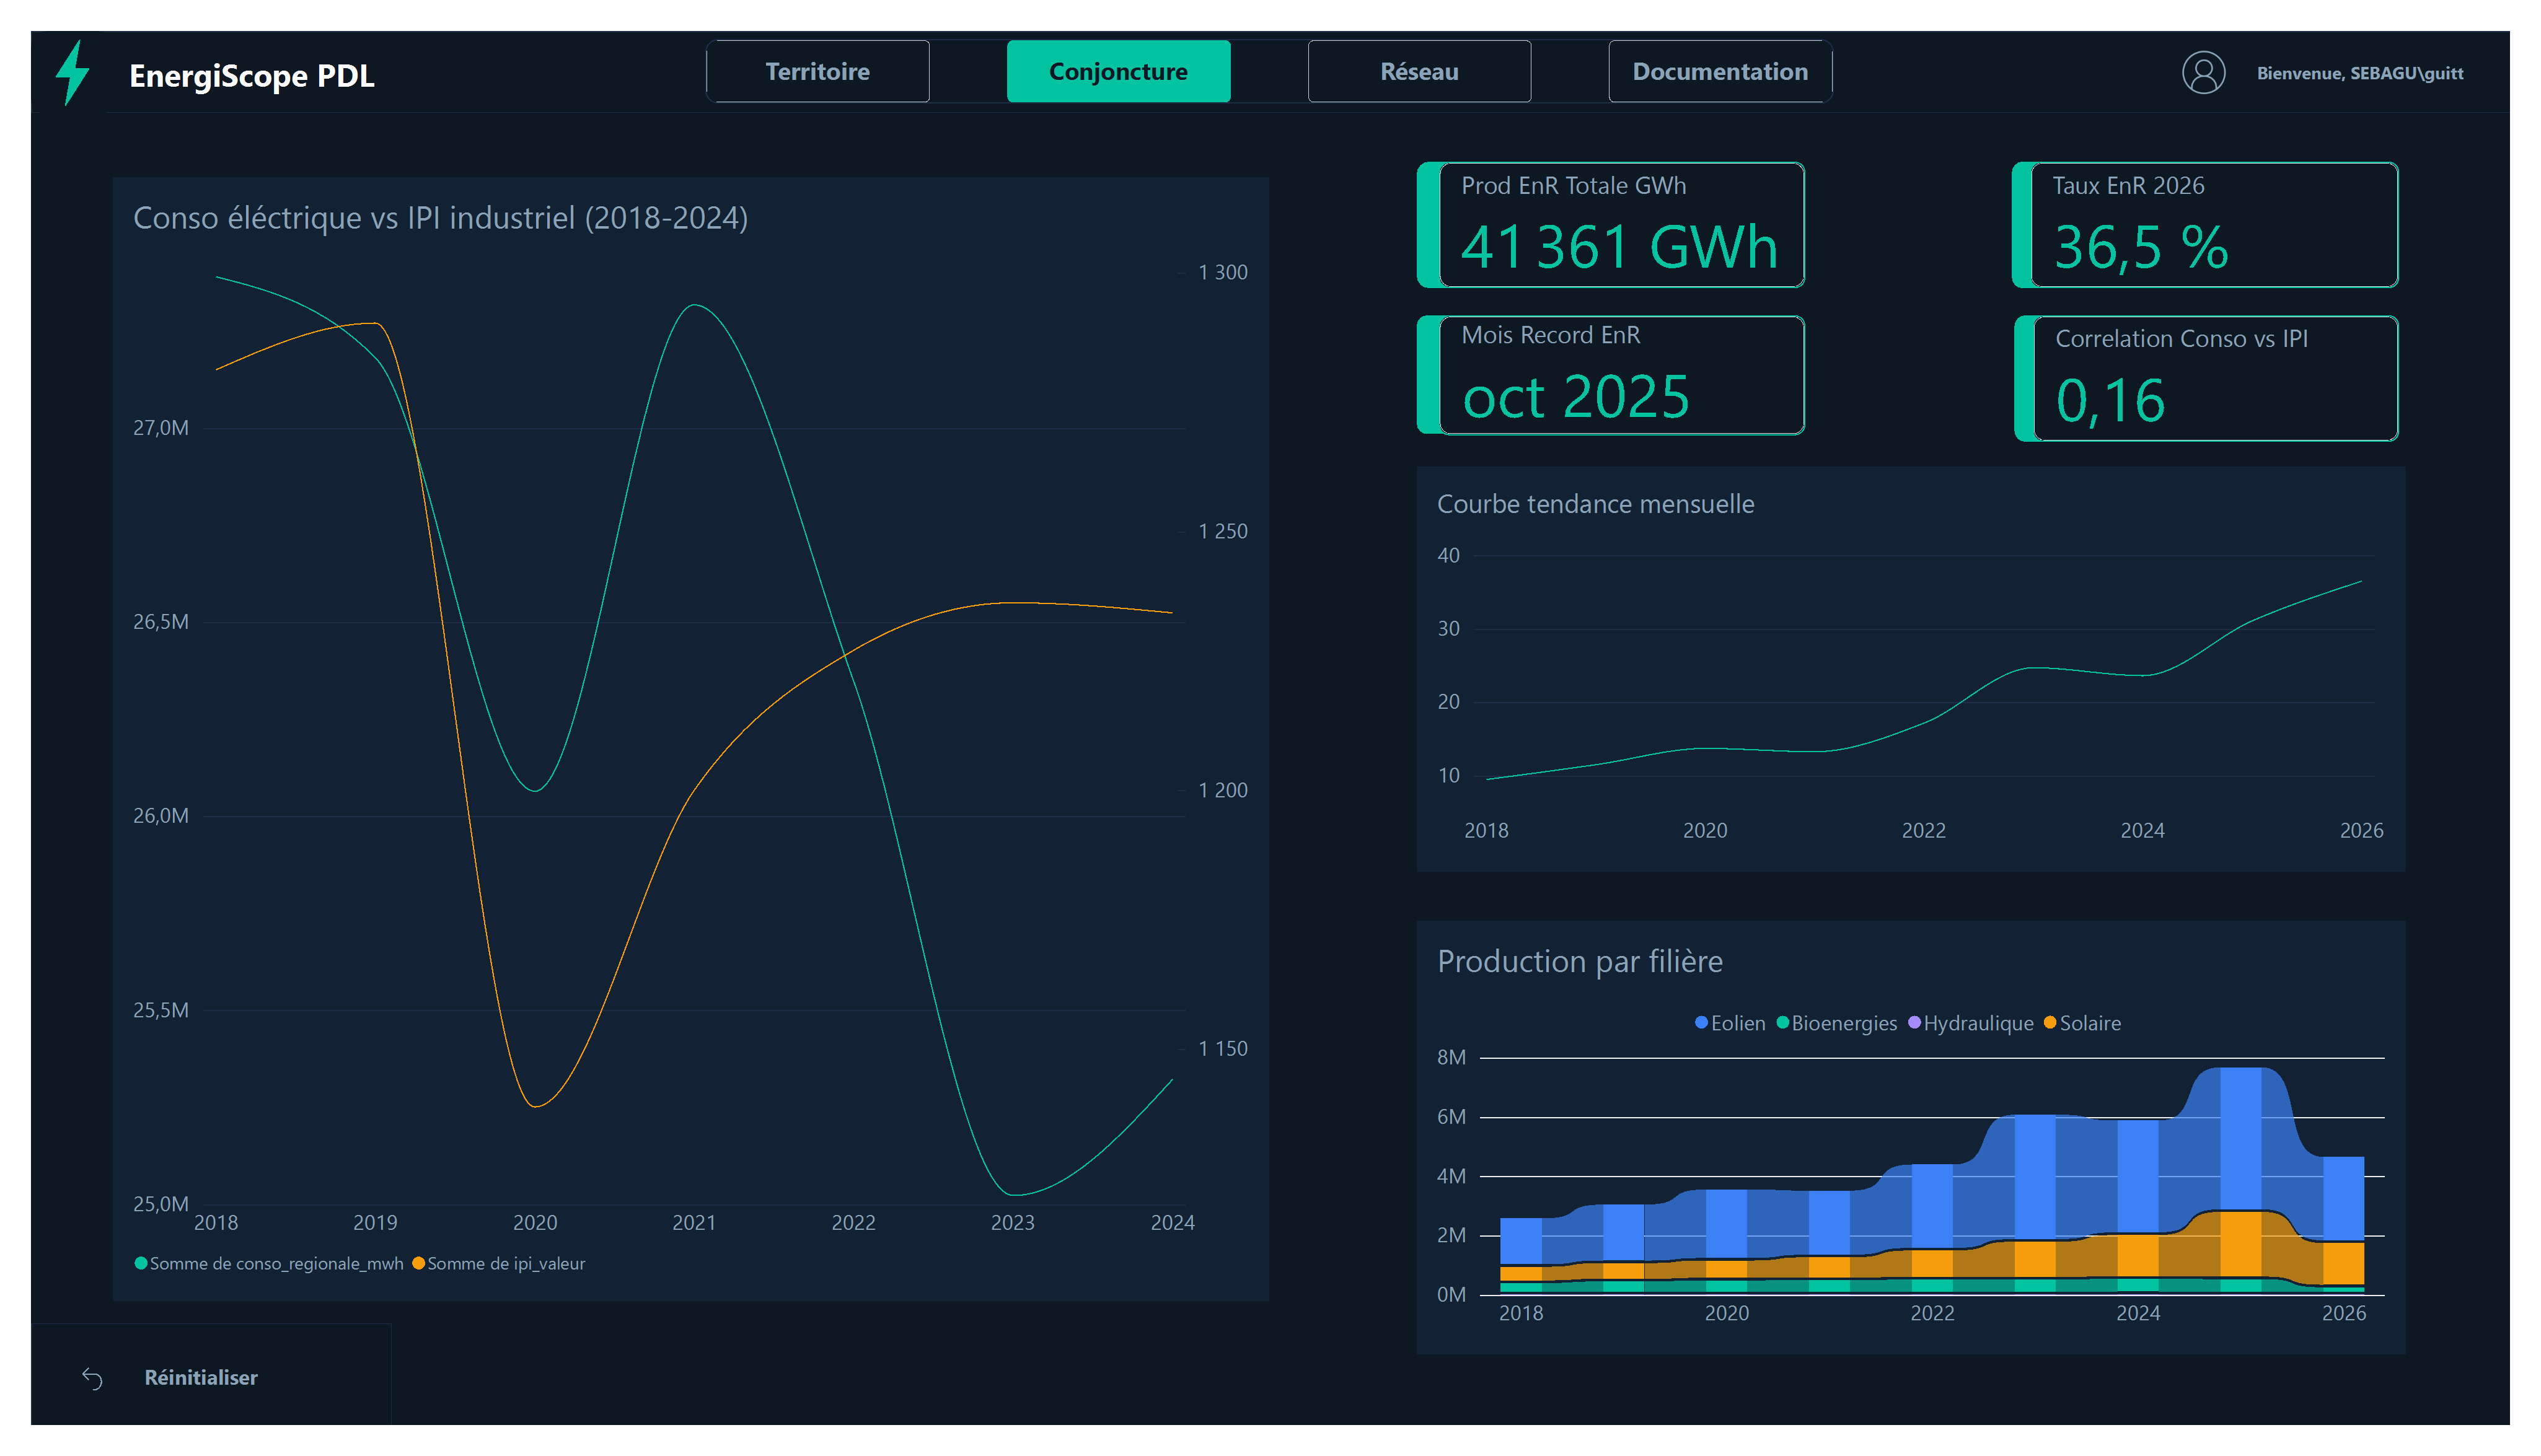

The page's visual inventory and layout, read from the dashboard file:
{"tool":"powerbi","page":{"name":"Conjoncture","canvas":[1920,1080],"ordinal":1},"visuals":[{"type":"shape","box":[0,0,1920.8,63.2],"z":0},{"type":"shape","box":[0,63.1,278.5,937.7],"z":1000},{"type":"shape","box":[0,1000.9,278.5,79.8],"z":2000},{"type":"actionButton","box":[37.1,1010.1,189.4,66.8],"z":3000},{"type":"cardVisual","fields":{"Data":["mart_conso_industrielle.Message_bienvenue"]},"box":[1708,3.3,200,56.7],"z":4000},{"type":"image","box":[1660,6.7,45.6,50],"z":5000},{"type":"slicer","title":"Année","fields":{"Values":["mart_conso_industrielle.annee"]},"box":[18.8,111.1,237.8,132.3],"z":6000},{"type":"lineChart","title":"Conso éléctrique vs IPI industriel (2018-2024)","fields":{"Category":["mart_correlation_conjoncture.annee"],"Y":["Sum(mart_correlation_conjoncture.conso_regionale_mwh)"],"Y2":["Sum(mart_correlation_conjoncture.ipi_valeur)"]},"box":[318,112,740,932],"z":7000},{"type":"lineChart","title":"Taux de couverture EnR mensuel (%)","fields":{"Category":["mart_production_regionale.periode"],"Y":["Sum(mart_production_regionale.taux_couverture_enr)"]},"box":[1162,112,682,316],"z":8000},{"type":"slicer","title":"Catégorie","fields":{"Values":["mart_conso_industrielle.categorie_consommation"]},"box":[18.8,297.3,237.8,147.7],"z":9000},{"type":"slicer","title":"Secteur NAF","fields":{"Values":["ref_naf.libelle_naf"]},"box":[13.7,480.2,264.9,505.8],"z":10000},{"type":"textbox","box":[64,0,214,64],"z":11000},{"type":"pageNavigator","box":[619.5,5.8,700.1,49.9],"z":12000},{"type":"barChart","title":"Production par filière ","fields":{"Y":["Sum(mart_production_regionale.taux_couverture_enr)"]},"box":[1164.3,707.8,680.9,335.7],"z":13000},{"type":"image","box":[0,0,64,64],"z":14000},{"type":"shape","box":[1140,510,34,112],"z":15000},{"type":"cardVisual","fields":{"Data":["mart_conso_industrielle.Correlation Conso IPI"]},"box":[1152,510,194,112],"z":16000},{"type":"shape","box":[1672,510,34,112],"z":16500},{"type":"cardVisual","fields":{"Data":["mart_production_regionale.Mois Record EnR"]},"box":[1682,510,180,112],"z":17000},{"type":"shape","box":[1394,510,34,112],"z":18000},{"type":"cardVisual","fields":{"Data":["mart_production_regionale.Taux EnR 2026"]},"box":[1406,510,194,112],"z":19000}]}

Visuals, with their boxes on the page's 1920x1080 design canvas (x1, y1, x2, y2). These are canvas units, not pixel positions in the 2541x1456 screenshot, which may show the page scaled, cropped or inside an application window:
shape: pyautogui.locateOnScreen(0, 0, 1921, 63)
shape: pyautogui.locateOnScreen(0, 63, 278, 1001)
shape: pyautogui.locateOnScreen(0, 1001, 278, 1081)
actionButton: pyautogui.locateOnScreen(37, 1010, 226, 1077)
cardVisual - mart_conso_industrielle.Message_bienvenue: pyautogui.locateOnScreen(1708, 3, 1908, 60)
image: pyautogui.locateOnScreen(1660, 7, 1706, 57)
"Année" slicer: pyautogui.locateOnScreen(19, 111, 257, 243)
"Conso éléctrique vs IPI industriel (2018-2024)" lineChart: pyautogui.locateOnScreen(318, 112, 1058, 1044)
"Taux de couverture EnR mensuel (%)" lineChart: pyautogui.locateOnScreen(1162, 112, 1844, 428)
"Catégorie" slicer: pyautogui.locateOnScreen(19, 297, 257, 445)
"Secteur NAF" slicer: pyautogui.locateOnScreen(14, 480, 279, 986)
textbox: pyautogui.locateOnScreen(64, 0, 278, 64)
pageNavigator: pyautogui.locateOnScreen(620, 6, 1320, 56)
"Production par filière " barChart: pyautogui.locateOnScreen(1164, 708, 1845, 1044)
image: pyautogui.locateOnScreen(0, 0, 64, 64)
shape: pyautogui.locateOnScreen(1140, 510, 1174, 622)
cardVisual - mart_conso_industrielle.Correlation Conso IPI: pyautogui.locateOnScreen(1152, 510, 1346, 622)
shape: pyautogui.locateOnScreen(1672, 510, 1706, 622)
cardVisual - mart_production_regionale.Mois Record EnR: pyautogui.locateOnScreen(1682, 510, 1862, 622)
shape: pyautogui.locateOnScreen(1394, 510, 1428, 622)
cardVisual - mart_production_regionale.Taux EnR 2026: pyautogui.locateOnScreen(1406, 510, 1600, 622)
